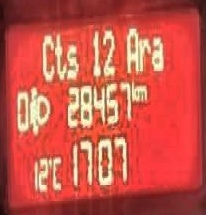0: (96, 135, 111, 186), (15, 87, 28, 133)
1: (90, 26, 101, 78), (71, 137, 78, 187), (32, 156, 38, 190)
2: (102, 25, 115, 76), (65, 82, 78, 130), (38, 154, 47, 192)
4: (92, 83, 104, 124)
5: (104, 78, 118, 124)
7: (112, 131, 127, 183), (79, 137, 92, 185), (119, 78, 131, 119)
8: (79, 82, 92, 128)
X: (40, 32, 54, 83), (124, 23, 138, 73), (54, 30, 66, 80), (150, 34, 163, 73), (138, 34, 150, 73), (66, 41, 78, 80), (51, 151, 61, 192), (136, 81, 147, 101), (91, 144, 96, 179), (131, 78, 136, 101)
